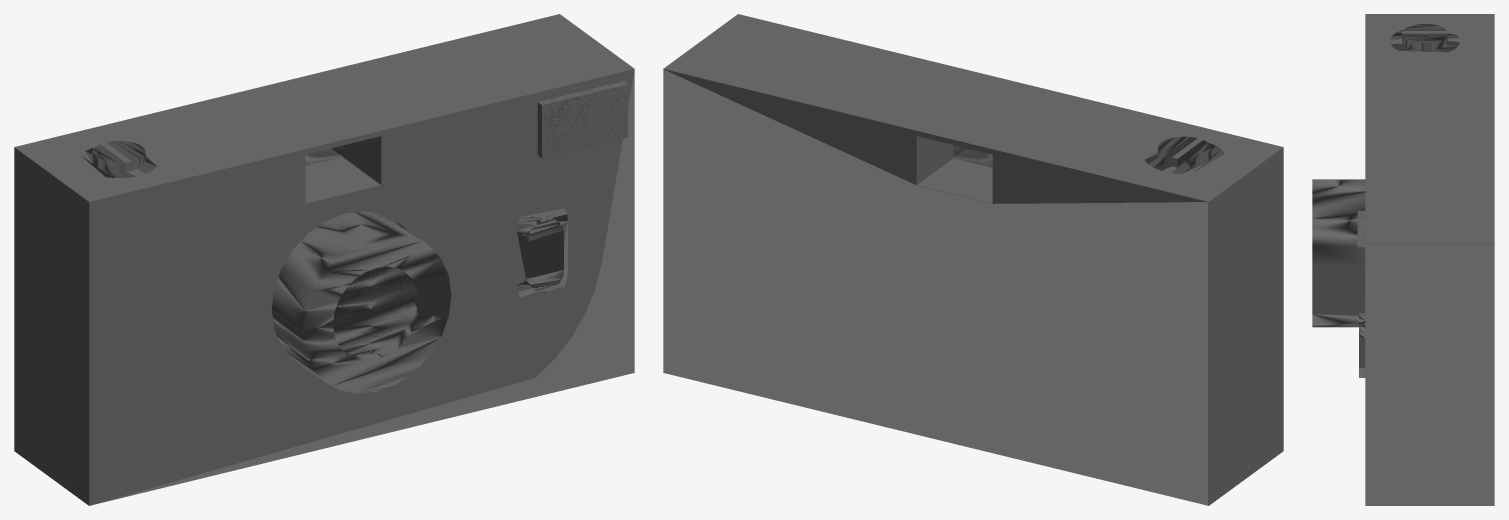
Rendered from model_align.obj.
3 renders of one model, left to right at view 1: azimuth 30°, elevation 25°; view 2: azimuth 150°, elevation 25°; view 3: azimuth 270°, elevation 25°, orthographic. The views are drawn at different scales.
Size of the model in its own units: 0.1425 by 0.0781 by 0.0478.
